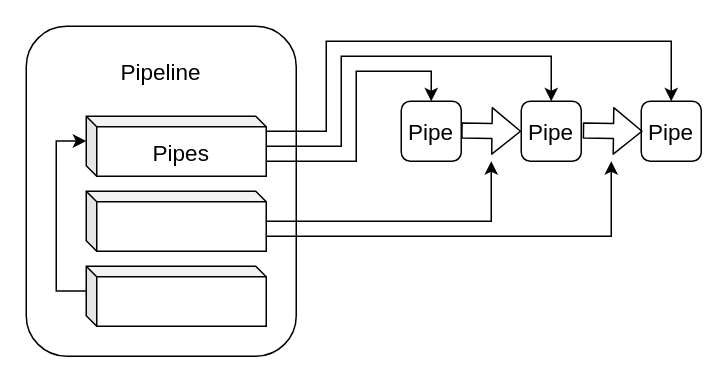
Image size: 728x383. Some labels were removed from this diagram. Here are the shapes that lost their labels. From the top down, the centre of each, then its label:
the point at 175,220: Buses
the point at 175,295: Layers
